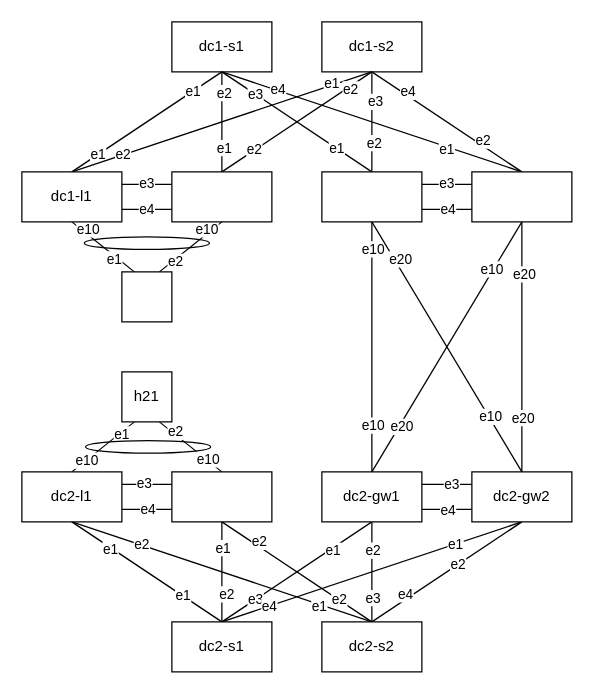
The diagram is 594 pixels wide and 694 high, and some of its shapes have lost their labels. Here are the shapes that lost their labels. From the top down, the centre of each, then its label:
At (x=221, y=196): "dc1-l2".
At (x=371, y=196): "dc1-gw1".
At (x=521, y=196): "dc1-gw2".
At (x=146, y=296): "h11".
At (x=221, y=496): "dc2-l2".
